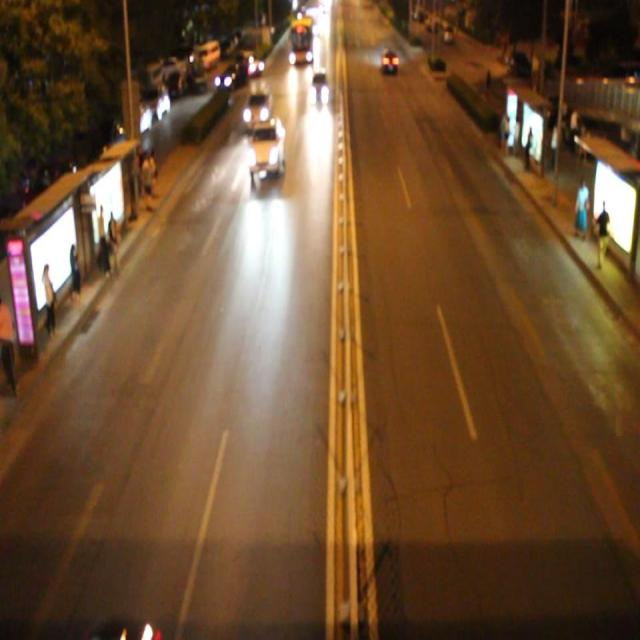car: (248, 117, 286, 178), (241, 86, 272, 134)
truck: (307, 70, 330, 104)
